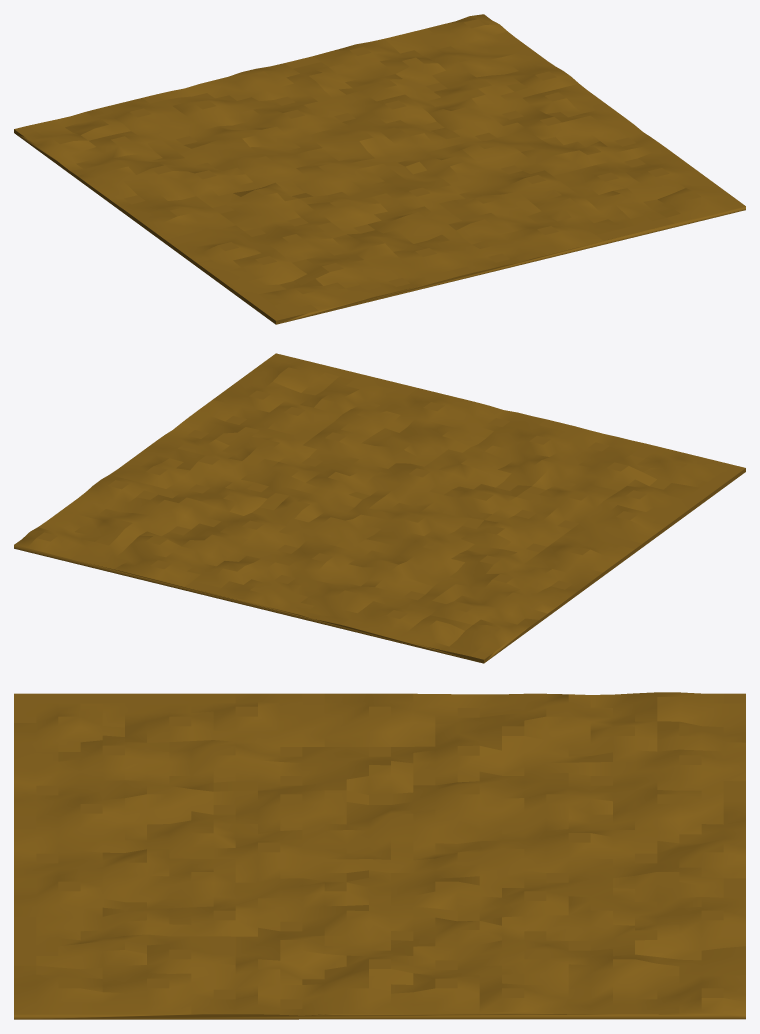
Rendered from earth 1.fbx.
The picture shows the model from 3 angles, top to bottom: view 1: azimuth 30°, elevation 25°; view 2: azimuth 150°, elevation 25°; view 3: azimuth 270°, elevation 25°; orthographic projection. The views are drawn at different scales.
Parts seen in each view (by area): view 1: earth; view 2: earth; view 3: earth.
Part boxes in pixels (x1,y1,x2,y2): earth: (14, 14, 745, 324); earth: (14, 353, 745, 663); earth: (14, 692, 745, 1019).
Bounding box in the file's own units: 1014 × 17.5 × 979.
